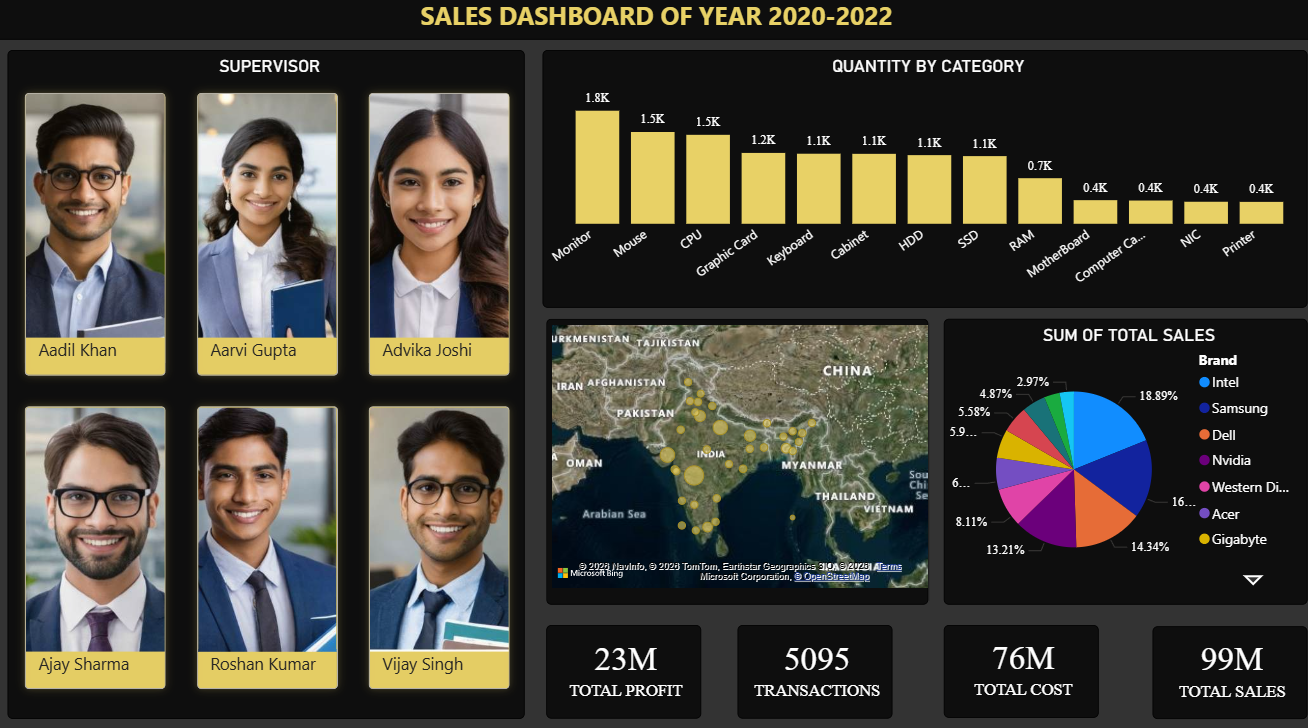

The page's visual inventory and layout, read from the dashboard file:
{"tool":"powerbi","page":{"name":"Page 1","canvas":[1280,720],"ordinal":0},"visuals":[{"type":"textbox","box":[0,0,1280.3,47.7],"z":0},{"type":"card","fields":{"Values":["Sum(Sales_Data.Total_Sales)"]},"box":[1117.2,614.1,149.6,89.3],"z":1000},{"type":"card","fields":{"Values":["Sum(Sales_Data.Total_Cost)"]},"box":[915.7,612.9,149.6,89.3],"z":2000},{"type":"card","fields":{"Values":["CountNonNull(Sales_Data.Order_Number)"]},"box":[716.6,612.9,149.6,90.5],"z":4000},{"type":"card","fields":{"Values":["Sales_Data.Total_Profit"]},"box":[532,612.9,149.6,90.5],"z":5000},{"type":"clusteredColumnChart","title":"QUANTITY BY CATEGORY","fields":{"Category":["Sales_Data.Category"],"Y":["Sum(Sales_Data.Quantity)"]},"box":[528.4,57.9,738.3,248.5],"z":6000},{"type":"pieChart","title":"SUM OF TOTAL SALES ","fields":{"Category":["Sales_Data.Brand"],"Y":["Sum(Sales_Data.Total_Sales)"]},"box":[915.7,317.3,351.1,276.3],"z":7000},{"type":"map","fields":{"Category":["State_list.State"],"Size":["Sum(Sales_Data.Sales)"]},"box":[532,317.3,369.2,276.3],"z":8000},{"type":"advancedSlicerVisual","title":"SUPERVISOR","fields":{"Values":["Supervisor.Supervisor"]},"box":[12.1,57.9,499.5,645.4],"z":8001}]}

Visuals, with their boxes in screenshot pixels (x1, y1, x2, y2), scaled from the page's 1280x720 canvas onto the 1308x728 screenshot:
textbox: bbox(0, 0, 1307, 48)
card - Sum(Sales_Data.Total_Sales): bbox(1142, 621, 1295, 711)
card - Sum(Sales_Data.Total_Cost): bbox(936, 620, 1089, 710)
card - CountNonNull(Sales_Data.Order_Number): bbox(732, 620, 885, 711)
card - Sales_Data.Total_Profit: bbox(544, 620, 697, 711)
"QUANTITY BY CATEGORY" clusteredColumnChart: bbox(540, 59, 1294, 310)
"SUM OF TOTAL SALES " pieChart: bbox(936, 321, 1295, 600)
map - State_list.State x Sum(Sales_Data.Sales): bbox(544, 321, 921, 600)
"SUPERVISOR" advancedSlicerVisual: bbox(12, 59, 523, 711)
